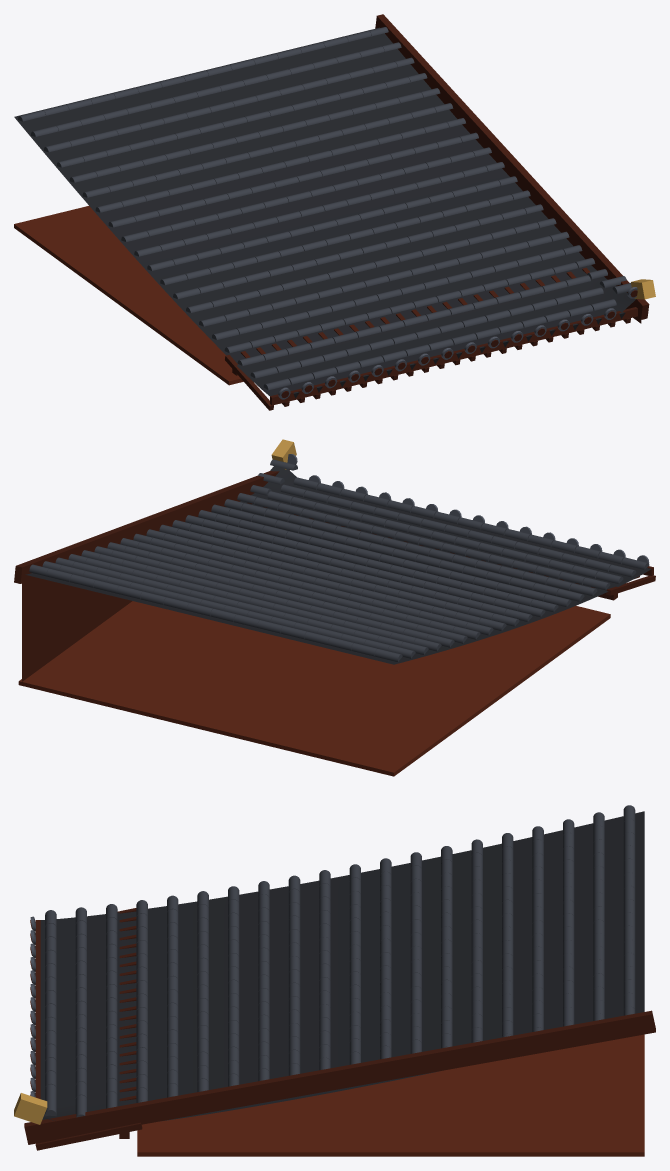
The model's file is pal1-inn-roof-front-east.glb.
The picture shows the model from 3 angles, top to bottom: view 1: azimuth 30°, elevation 25°; view 2: azimuth 150°, elevation 25°; view 3: azimuth 270°, elevation 25°; orthographic projection. The views are drawn at different scales.
Visible parts, largest first — view 1: Pal1RoofFront; view 2: Pal1RoofFront; view 3: Pal1RoofFront.
Boxes of the visible parts, bbox=[...] form: Pal1RoofFront: bbox=[14, 14, 655, 410]; Pal1RoofFront: bbox=[14, 439, 655, 776]; Pal1RoofFront: bbox=[14, 805, 655, 1156].
Size of what is drawn, in the model's own units: 4.05 by 1.24 by 5.06.
